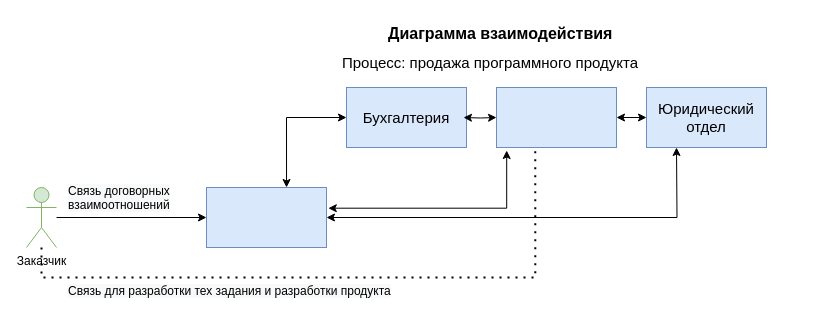
This 832x330 diagram has some shape labels left out. Here are the shapes that lost their labels. From the top down, the centre of each, then its label:
(x=556, y=117): Отдел разработки
(x=266, y=217): Отдел по работе с Заказчиками
